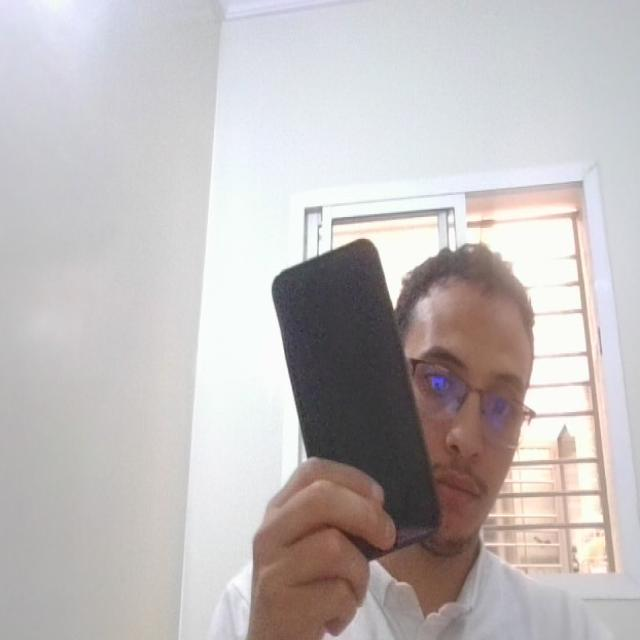phone: (262, 232, 451, 563)
